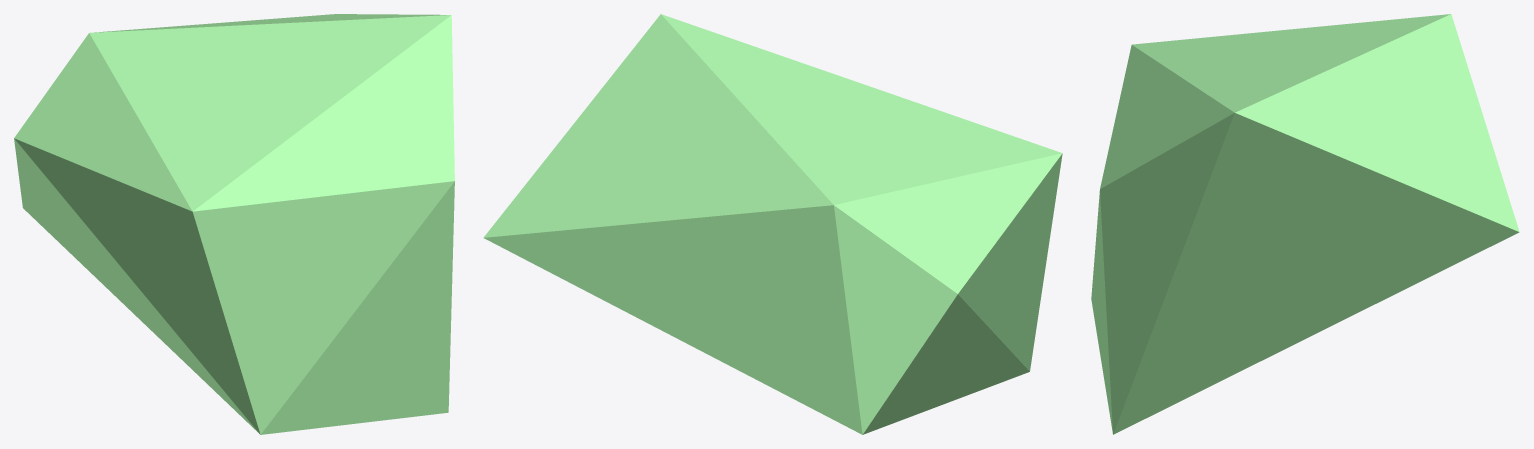
The model's file is dvkr_robot_L3_respondable_ECM_coll_1.dae.
3 views of the same model, side by side, from view 1: azimuth 30°, elevation 25°; view 2: azimuth 150°, elevation 25°; view 3: azimuth 270°, elevation 25° (orthographic). The views are drawn at different scales.
Parts seen in each view (by area): view 1: Node_0000023514CD8050; view 2: Node_0000023514CD8050; view 3: Node_0000023514CD8050.
Part boxes in pixels (x1,y1,x2,y2): Node_0000023514CD8050: (14,14,454,434); Node_0000023514CD8050: (483,14,1062,434); Node_0000023514CD8050: (1091,14,1519,434).
Size of the model in its own units: 0.0302 by 0.0264 by 0.0289.
